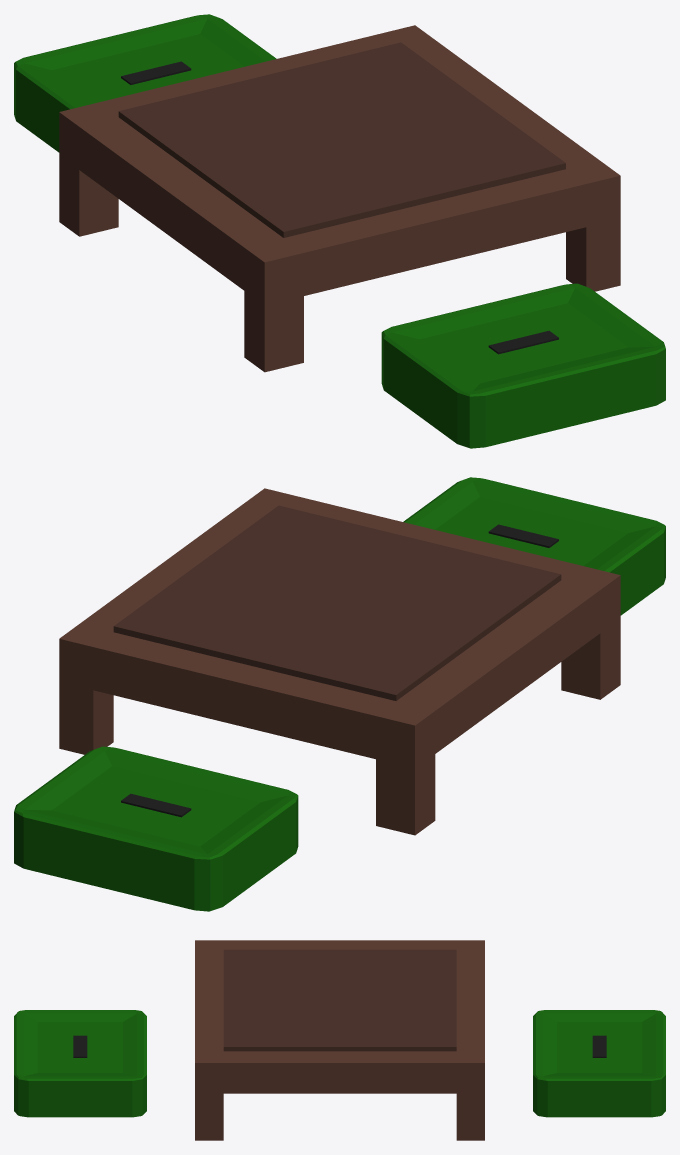
Rendered from Raven_Table.fbx.
3 views of the same model, one above another, from view 1: azimuth 30°, elevation 25°; view 2: azimuth 150°, elevation 25°; view 3: azimuth 270°, elevation 25° (orthographic). The views are drawn at different scales.
Visible parts, largest first — view 1: Cube, Cube.002, Cube.001; view 2: Cube, Cube.001, Cube.002; view 3: Cube, Cube.001, Cube.002.
Boxes of the visible parts, x1,y1,x2,y2 form: Cube: (59,25,620,372); Cube.002: (381,283,665,448); Cube.001: (14,14,276,152); Cube: (59,488,620,835); Cube.001: (14,746,298,911); Cube.002: (403,477,665,615); Cube: (195,940,484,1140); Cube.001: (533,1010,665,1117); Cube.002: (14,1010,146,1117).
Bounding box in the file's own units: 200 × 66.05 × 450.
